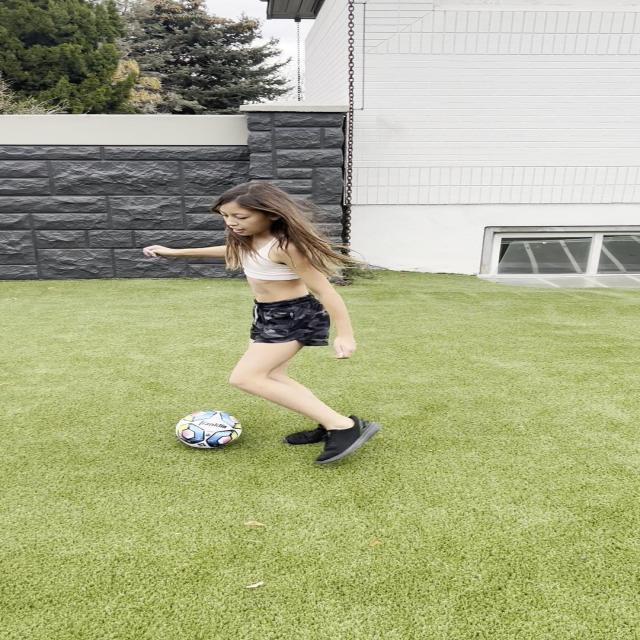Soccer Ball: (176, 410, 241, 448)
